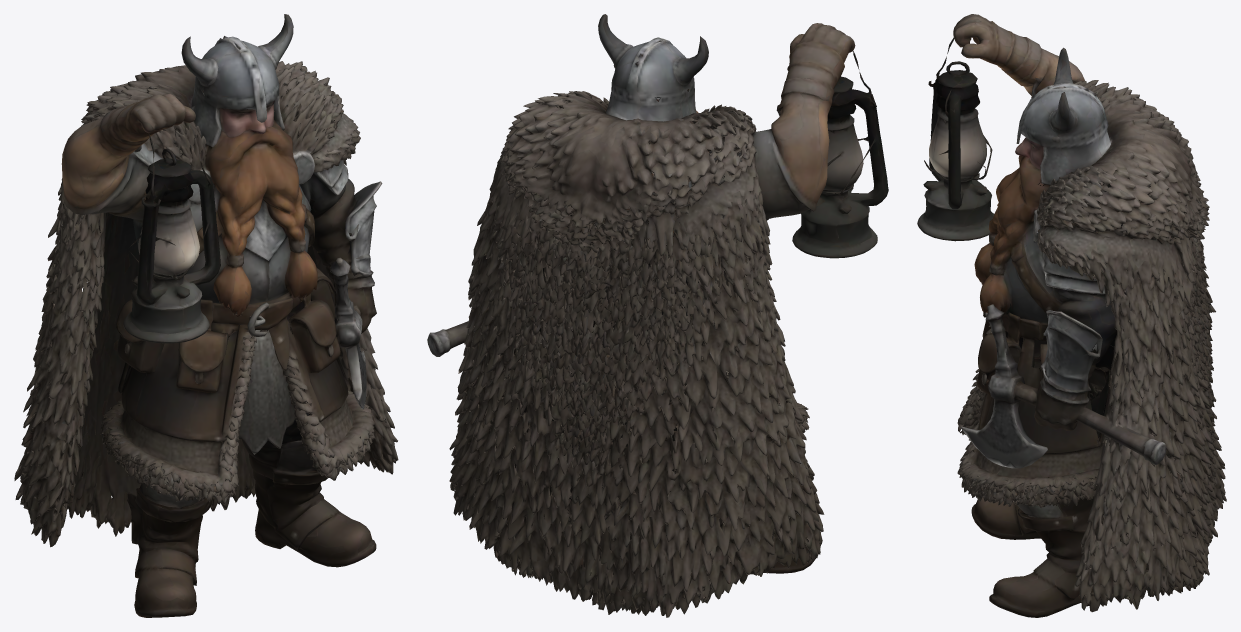
Rendered from sample_2026-08-31T071813.306.glb.
3 renders of one model, left to right at view 1: azimuth 30°, elevation 25°; view 2: azimuth 150°, elevation 25°; view 3: azimuth 270°, elevation 25°, orthographic. The views are drawn at different scales.
Parts seen in each view (by area): view 1: world; view 2: world; view 3: world.
Part boxes in pixels (box(x1,y1,x2,y2)): world: box(14, 14, 398, 617); world: box(427, 14, 888, 617); world: box(917, 14, 1226, 617).
Bounding box in the file's own units: 0.713 × 1 × 0.5558.
Materials: 1 (1 with a texture image).
